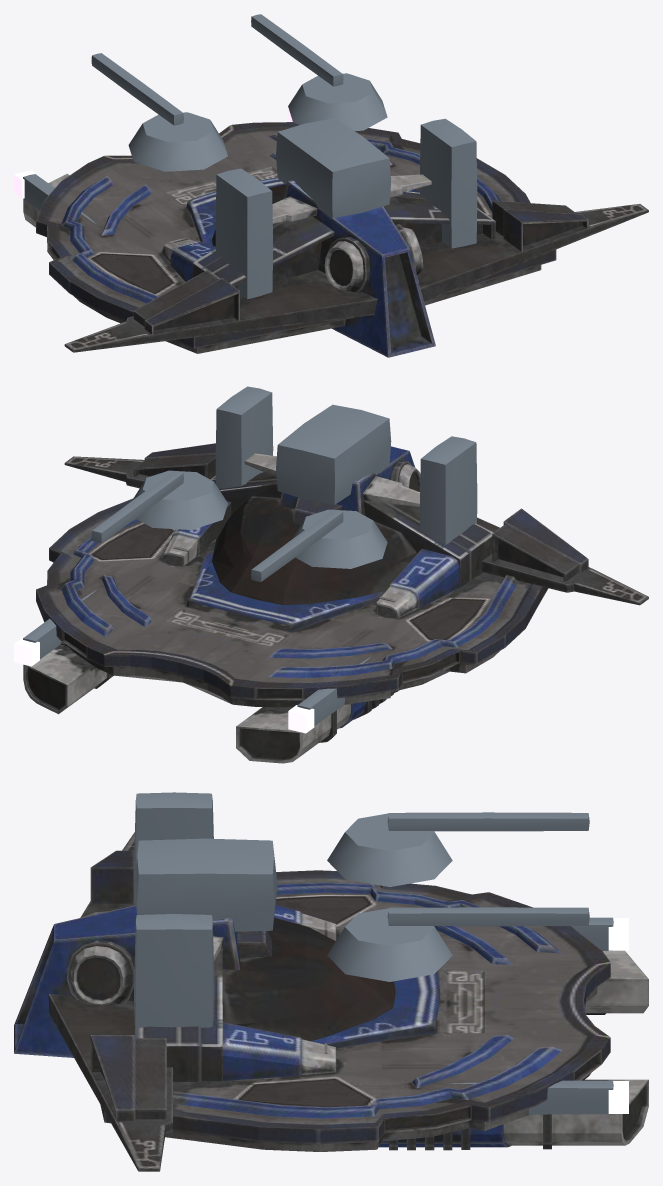
File: enemy_heavy.glb
The picture shows the model from 3 angles, top to bottom: view 1: azimuth 30°, elevation 25°; view 2: azimuth 150°, elevation 25°; view 3: azimuth 270°, elevation 25°; orthographic projection. The views are drawn at different scales.
Parts seen in each view (by area): view 1: enemy_heavy; view 2: enemy_heavy; view 3: enemy_heavy.
Part boxes in pixels (bbox=[...]): enemy_heavy: bbox=[14, 14, 648, 357]; enemy_heavy: bbox=[14, 386, 648, 763]; enemy_heavy: bbox=[14, 792, 648, 1171].
Size of the model in its own units: 1.8 by 0.5432 by 1.41.
3 materials, 1 textured.
